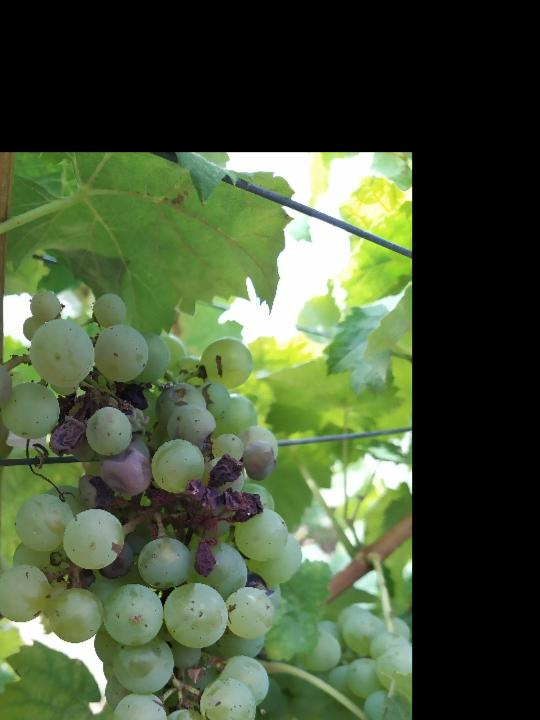grape: (0, 287, 306, 720)
